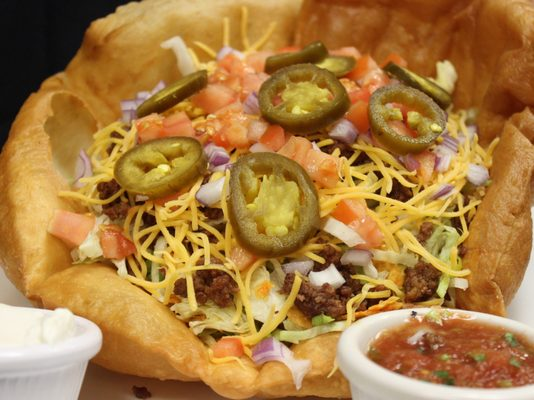sushi: (337, 307, 534, 396)
